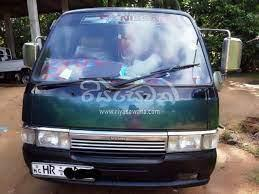van: (16, 7, 241, 187)
